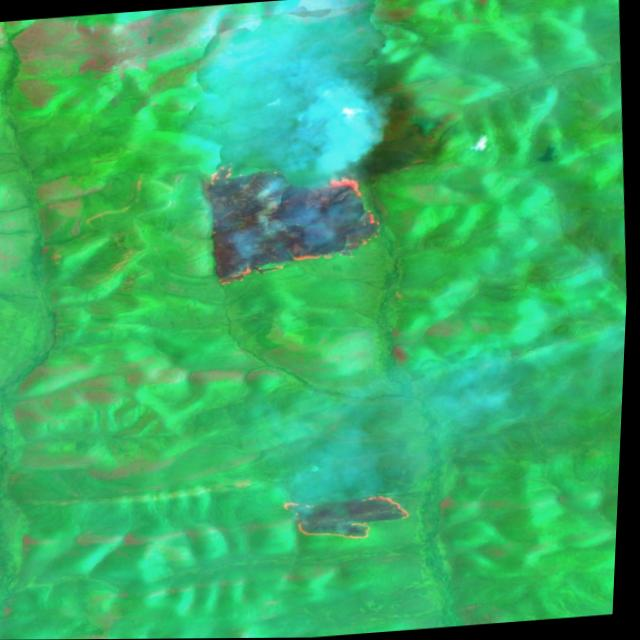fire: (195, 152, 394, 289), (282, 485, 421, 547)
